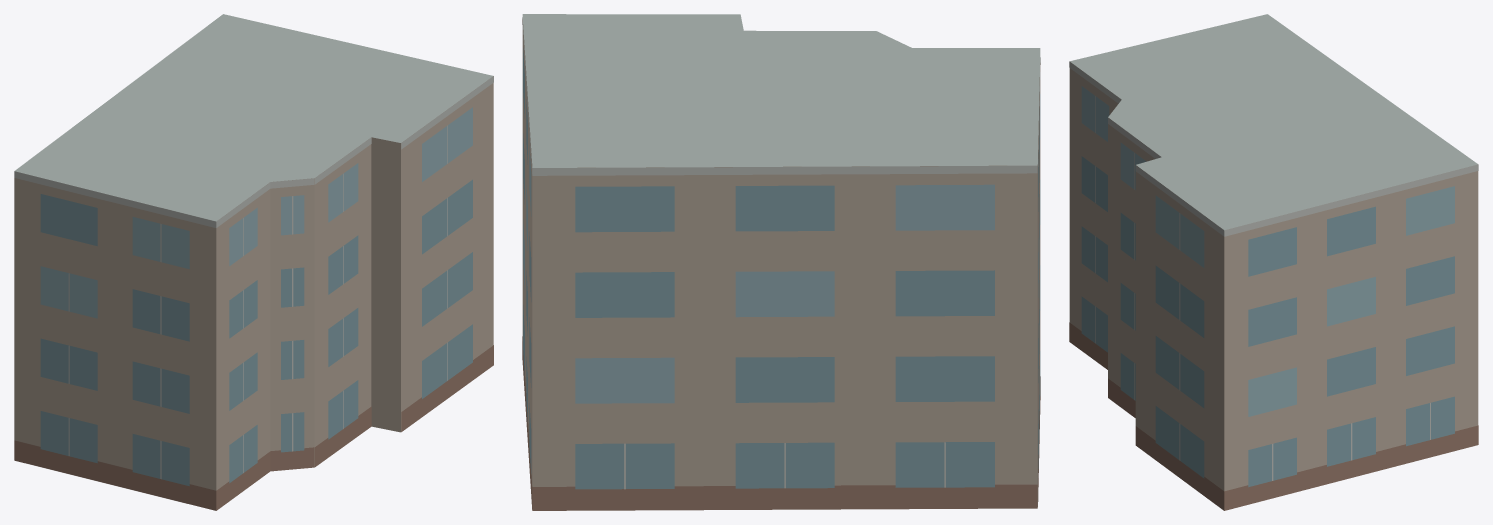
The model's file is survey-upis-32536151.glb.
3 views of the same model, side by side, from view 1: azimuth 30°, elevation 25°; view 2: azimuth 150°, elevation 25°; view 3: azimuth 270°, elevation 25° (orthographic). The views are drawn at different scales.
Parts seen in each view (by area): view 1: survey-upis-32536151.tmp; view 2: survey-upis-32536151.tmp; view 3: survey-upis-32536151.tmp.
Boxes of the visible parts, x1=… form: survey-upis-32536151.tmp: x1=14, y1=14, x2=493, y2=510; survey-upis-32536151.tmp: x1=522, y1=14, x2=1040, y2=510; survey-upis-32536151.tmp: x1=1069, y1=14, x2=1478, y2=510.
Size of the model in its own units: 17.54 by 10.6 by 14.01.
